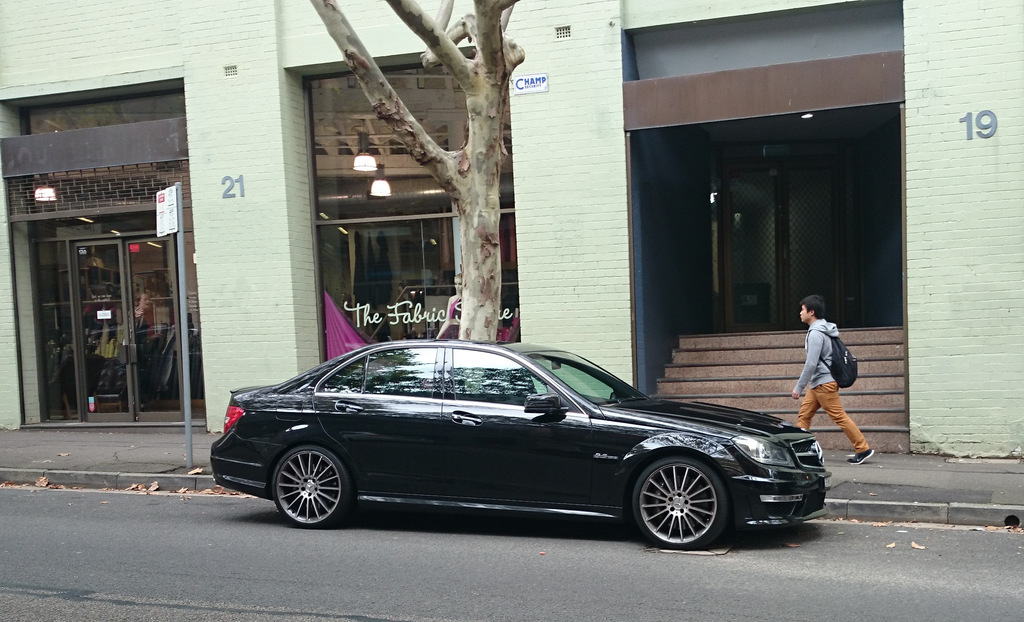mobil: (212, 331, 841, 609)
